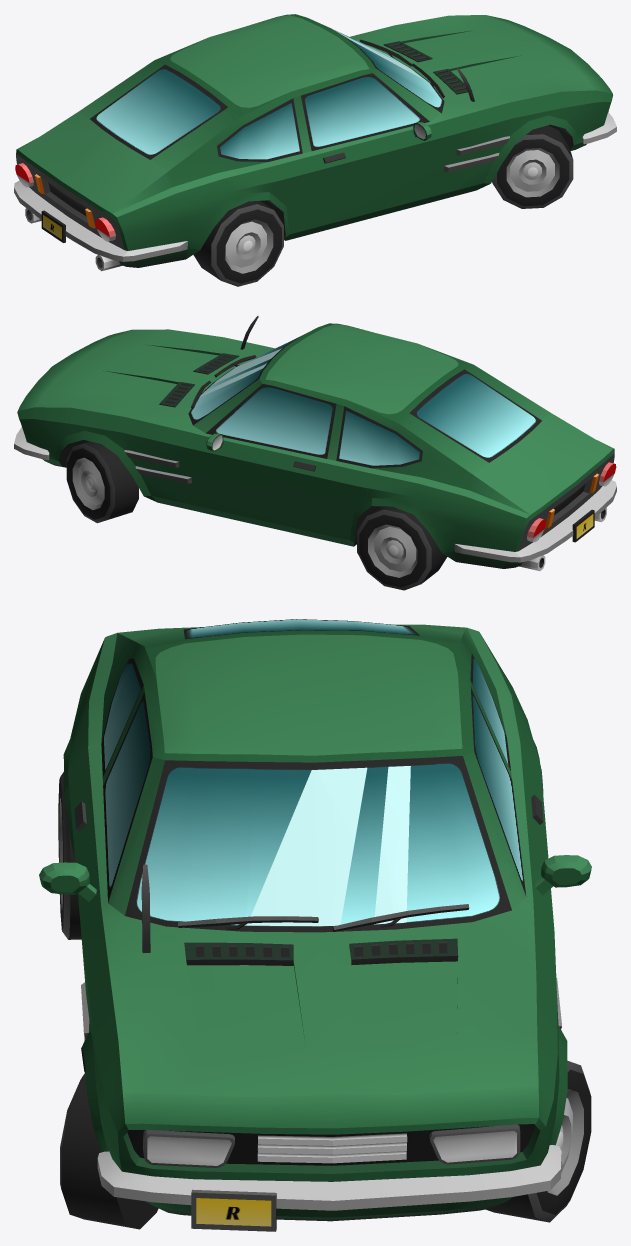
Rendered from Car_067.glb.
3 renders of one model, top to bottom at view 1: azimuth 30°, elevation 25°; view 2: azimuth 150°, elevation 25°; view 3: azimuth 270°, elevation 25°, orthographic. The views are drawn at different scales.
Parts seen in each view (by area): view 1: Car_067, wheel_2_Car_067_Wheel_3R, wheel_0_Car_067_Wheel_1R; view 2: Car_067, wheel_3_Car_067_Wheel_4L, wheel_1_Car_067_Wheel_2L; view 3: Car_067, wheel_0_Car_067_Wheel_1R, wheel_1_Car_067_Wheel_2L, wheel_2_Car_067_Wheel_3R.
Boxes of the visible parts, box(x1,y1,x2,y2) form: Car_067: box(14, 14, 616, 271); wheel_2_Car_067_Wheel_3R: box(193, 200, 283, 286); wheel_0_Car_067_Wheel_1R: box(492, 125, 573, 208); Car_067: box(14, 316, 616, 570); wheel_3_Car_067_Wheel_4L: box(357, 506, 447, 590); wheel_1_Car_067_Wheel_2L: box(66, 441, 138, 523); Car_067: box(39, 619, 591, 1231); wheel_0_Car_067_Wheel_1R: box(60, 1073, 158, 1229); wheel_1_Car_067_Wheel_2L: box(485, 1060, 591, 1222); wheel_2_Car_067_Wheel_3R: box(58, 772, 81, 939).
Size of the model in its own units: 5.09 by 1.5 by 2.31.
1 material, 1 textured.
